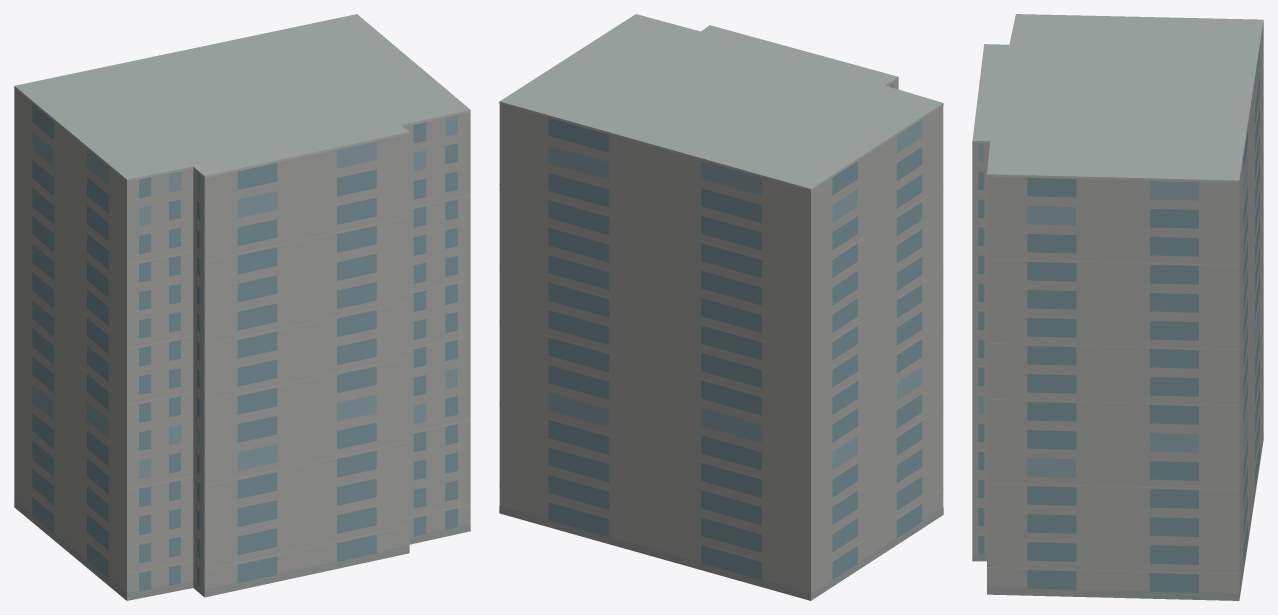
The model's file is survey-upis-32881391.glb.
The picture shows the model from 3 angles, left to right: view 1: azimuth 30°, elevation 25°; view 2: azimuth 150°, elevation 25°; view 3: azimuth 270°, elevation 25°; orthographic projection. The views are drawn at different scales.
Visible parts, largest first — view 1: survey-upis-32881391.tmp; view 2: survey-upis-32881391.tmp; view 3: survey-upis-32881391.tmp.
Part boxes in pixels (bbox=[...]): survey-upis-32881391.tmp: bbox=[14, 14, 470, 600]; survey-upis-32881391.tmp: bbox=[499, 14, 943, 600]; survey-upis-32881391.tmp: bbox=[972, 14, 1263, 600].
Bounding box in the file's own units: 37.12 × 43.65 × 27.42.
